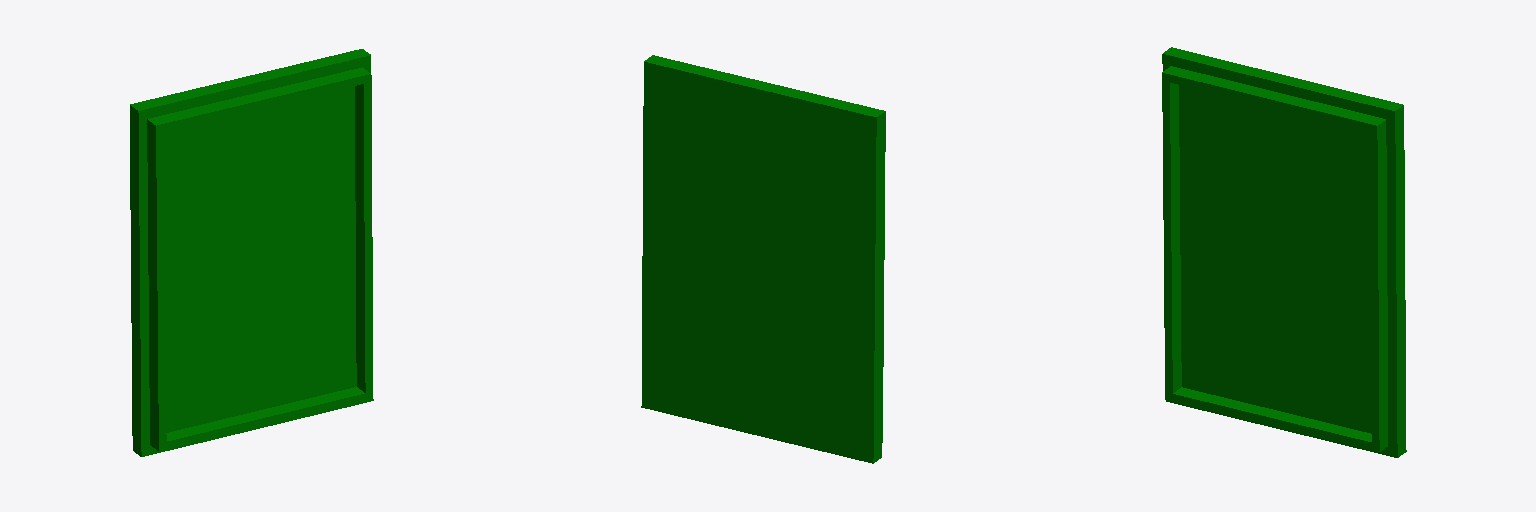
The model's file is EspHolderLid.obj.
3 views of the same model, side by side, from view 1: azimuth 30°, elevation 25°; view 2: azimuth 150°, elevation 25°; view 3: azimuth 330°, elevation 25° (orthographic).
Parts seen in each view (by area): view 1: Box012; view 2: Box012; view 3: Box012.
Boxes of the visible parts, box(x1,y1,x2,y2) form: Box012: box(130, 49, 373, 456); Box012: box(641, 55, 885, 463); Box012: box(1162, 47, 1406, 457).
Bounding box in the file's own units: 30.45 × 42.99 × 4.02.